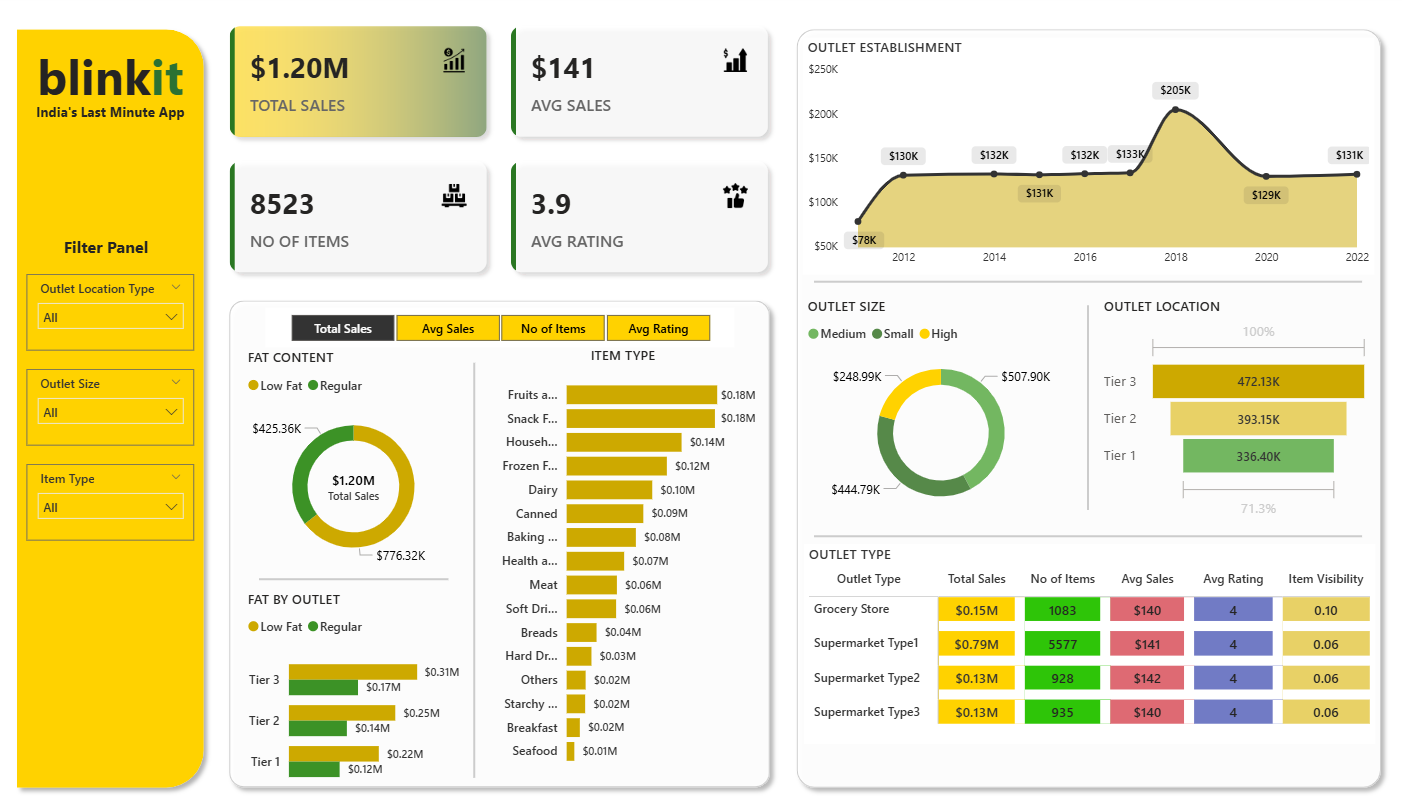

The dashboard page shown, as its layout file describes it:
{"tool":"powerbi","page":{"name":"Page 1","canvas":[1400,800],"ordinal":0},"visuals":[{"type":"shape","box":[14,25.4,203.5,770.7],"z":0},{"type":"textbox","box":[29.3,43.2,171.7,73.8],"z":1000},{"type":"textbox","box":[29.3,103,171.7,28],"z":2000},{"type":"cardVisual","fields":{"Data":["BlinkIT Grocery Data.Total Sales","BlinkIT Grocery Data.Avg Sales","BlinkIT Grocery Data.No of Items","BlinkIT Grocery Data.Avg Rating"]},"box":[217.5,15.3,569.8,279.8],"z":3000},{"type":"shape","box":[225.1,295.1,554.5,501.1],"z":4000},{"type":"donutChart","title":"FAT CONTENT","fields":{"Y":["BlinkIT Grocery Data.Total Sales"],"Category":["BlinkIT Grocery Data.Item Fat Content"]},"box":[246.7,351,220,230.2],"z":5000},{"type":"slicer","fields":{"Values":["Metrics.Metrics"]},"box":[269.6,311.6,465.5,39.4],"z":6000},{"type":"cardVisual","fields":{"Data":["BlinkIT Grocery Data.Total Sales"]},"box":[311.6,456.6,91.6,57.2],"z":7000},{"type":"clusteredBarChart","title":"FAT BY OUTLET","fields":{"Y":["BlinkIT Grocery Data.Total Sales"],"Category":["BlinkIT Grocery Data.Outlet Location Type"],"Series":["BlinkIT Grocery Data.Item Fat Content"]},"box":[246.7,590.1,220,209.8],"z":8000},{"type":"shape","box":[263.3,572.3,188.2,17.8],"z":9000},{"type":"shape","box":[466.8,366.3,20.3,412.1],"z":10000},{"type":"barChart","title":"ITEM TYPE","fields":{"Y":["BlinkIT Grocery Data.Total Sales"],"Category":["BlinkIT Grocery Data.Item Type"]},"box":[487.1,348.5,273.4,427.3],"z":11000},{"type":"shape","box":[787.2,25.4,597.7,770.7],"z":12000},{"type":"lineChart","title":"OUTLET ESTABLISHMENT","fields":{"Category":["BlinkIT Grocery Data.Outlet Establishment Year"],"Y":["BlinkIT Grocery Data.Total Sales"]},"box":[802.5,43.2,567.2,235.3],"z":13000},{"type":"shape","box":[814,277.3,544.3,17.8],"z":14000},{"type":"donutChart","title":"OUTLET SIZE","fields":{"Category":["BlinkIT Grocery Data.Outlet Size"],"Y":["BlinkIT Grocery Data.Total Sales"]},"box":[802.5,299.6,274.7,225.1],"z":14001},{"type":"shape","box":[1075.9,309,20.3,203.5],"z":14002},{"type":"funnel","title":"OUTLET LOCATION","fields":{"Y":["Sum(BlinkIT Grocery Data.Sales)"],"Category":["BlinkIT Grocery Data.Outlet Location Type"]},"box":[1096.3,299.6,273.4,225.1],"z":14003},{"type":"shape","box":[814,522.7,544.3,31.8],"z":14004},{"type":"pivotTable","title":"OUTLET TYPE","fields":{"Values":["BlinkIT Grocery Data.Total Sales","BlinkIT Grocery Data.No of Items","BlinkIT Grocery Data.Avg Sales","BlinkIT Grocery Data.Avg Rating","Avg(BlinkIT Grocery Data.Item Visibility)"],"Rows":["BlinkIT Grocery Data.Outlet Type"]},"box":[803.8,545.6,567.2,198.4],"z":14005},{"type":"slicer","fields":{"Values":["BlinkIT Grocery Data.Outlet Location Type"]},"box":[31.8,278.5,166.6,76.3],"z":14006},{"type":"slicer","fields":{"Values":["BlinkIT Grocery Data.Outlet Size"]},"box":[31.8,372.6,166.6,76.3],"z":14007},{"type":"slicer","fields":{"Values":["BlinkIT Grocery Data.Item Type"]},"box":[31.8,466.8,166.6,76.3],"z":14008},{"type":"textbox","box":[29.3,234,162.8,43.2],"z":14009}]}

Visuals, with their boxes in screenshot pixels (x1, y1, x2, y2), scaled from the page's 1400x800 canvas onto the 1402x797 screenshot:
shape: [14, 25, 218, 793]
textbox: [29, 43, 201, 117]
textbox: [29, 103, 201, 131]
cardVisual - BlinkIT Grocery Data.Total Sales x BlinkIT Grocery Data.Avg Sales: [218, 15, 788, 294]
shape: [225, 294, 781, 793]
"FAT CONTENT" donutChart: [247, 350, 467, 579]
slicer - Metrics.Metrics: [270, 310, 736, 350]
cardVisual - BlinkIT Grocery Data.Total Sales: [312, 455, 404, 512]
"FAT BY OUTLET" clusteredBarChart: [247, 588, 467, 796]
shape: [264, 570, 452, 588]
shape: [467, 365, 488, 775]
"ITEM TYPE" barChart: [488, 347, 762, 773]
shape: [788, 25, 1387, 793]
"OUTLET ESTABLISHMENT" lineChart: [804, 43, 1372, 277]
shape: [815, 276, 1360, 294]
"OUTLET SIZE" donutChart: [804, 298, 1079, 523]
shape: [1077, 308, 1098, 511]
"OUTLET LOCATION" funnel: [1098, 298, 1372, 523]
shape: [815, 521, 1360, 552]
"OUTLET TYPE" pivotTable: [805, 544, 1373, 741]
slicer - BlinkIT Grocery Data.Outlet Location Type: [32, 277, 199, 353]
slicer - BlinkIT Grocery Data.Outlet Size: [32, 371, 199, 447]
slicer - BlinkIT Grocery Data.Item Type: [32, 465, 199, 541]
textbox: [29, 233, 192, 276]
